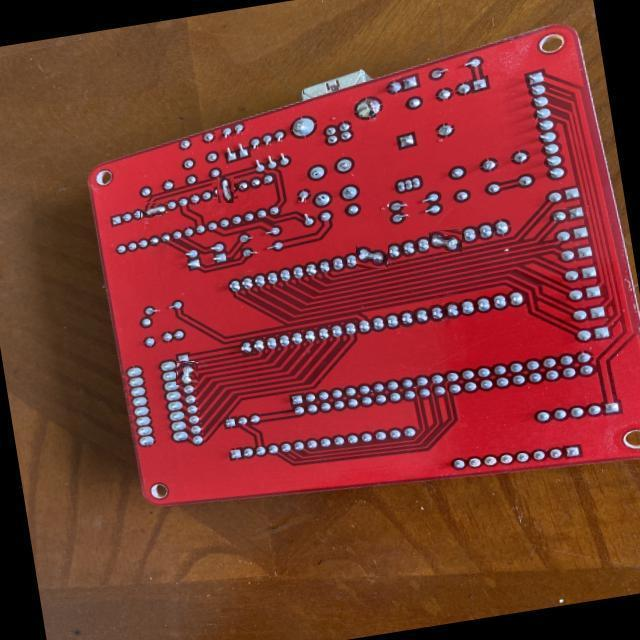damged: (356, 244, 388, 269), (429, 230, 464, 252), (176, 362, 198, 386), (214, 180, 236, 202), (140, 202, 168, 218)
